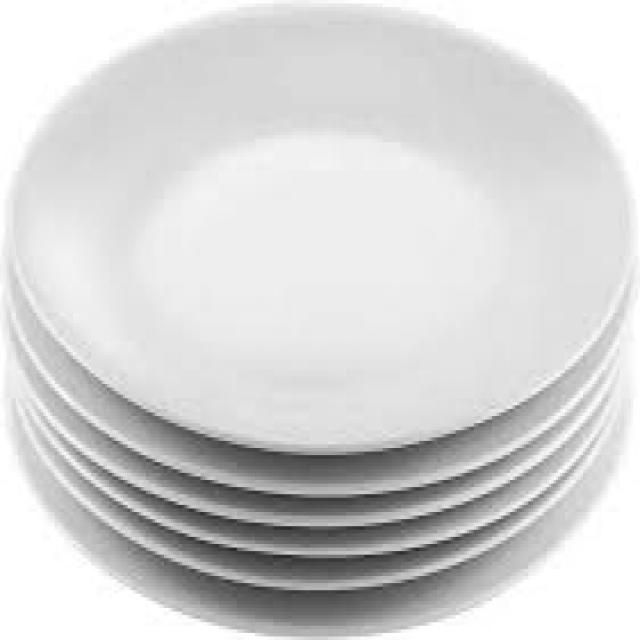dish: (19, 6, 640, 613)
